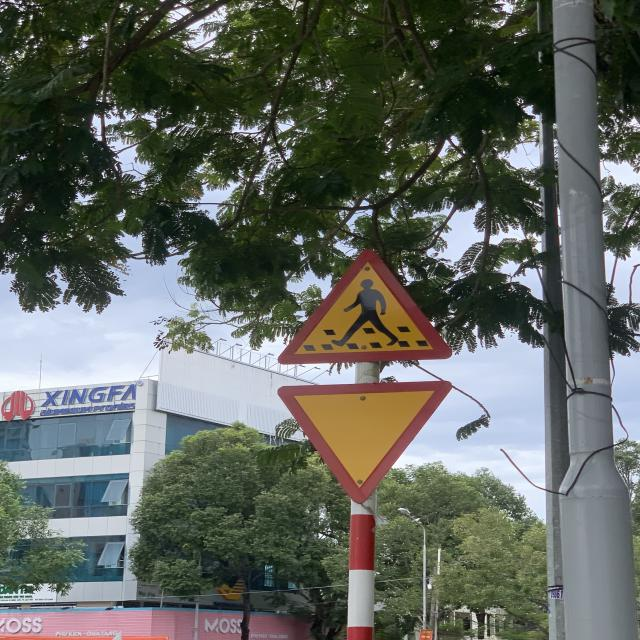Duong_Nguoi_Di_Bo_Sang_Ngang: (281, 246, 452, 368)
Gioi_Han_Toc_Do_25: (275, 379, 451, 505)
